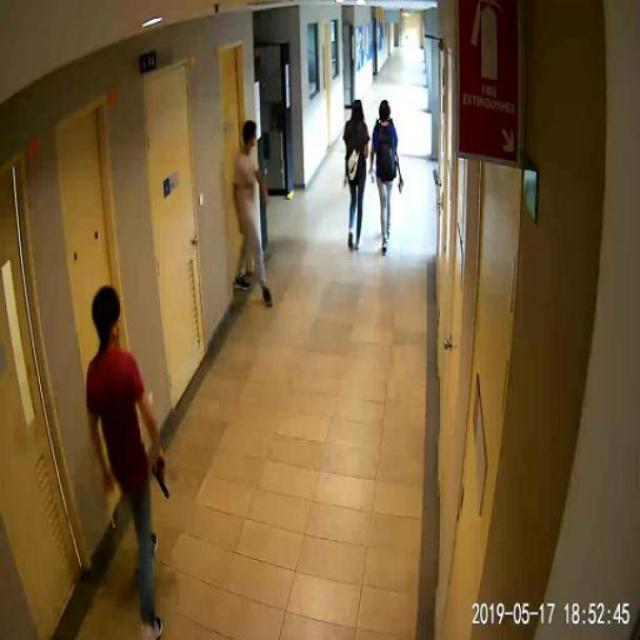Gun: (156, 445, 182, 513)
